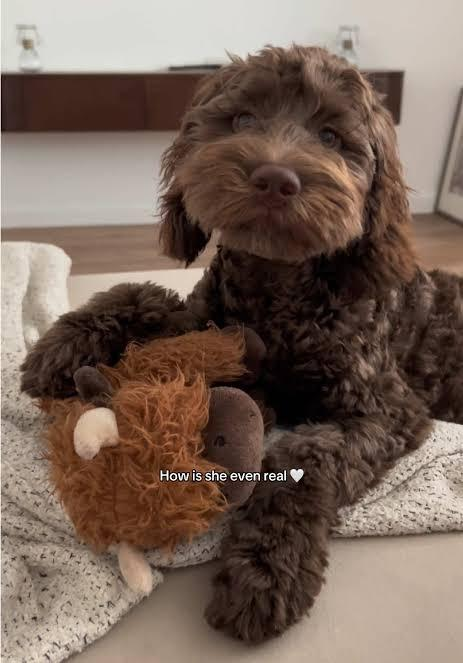puppy-dog: (19, 43, 462, 645)
